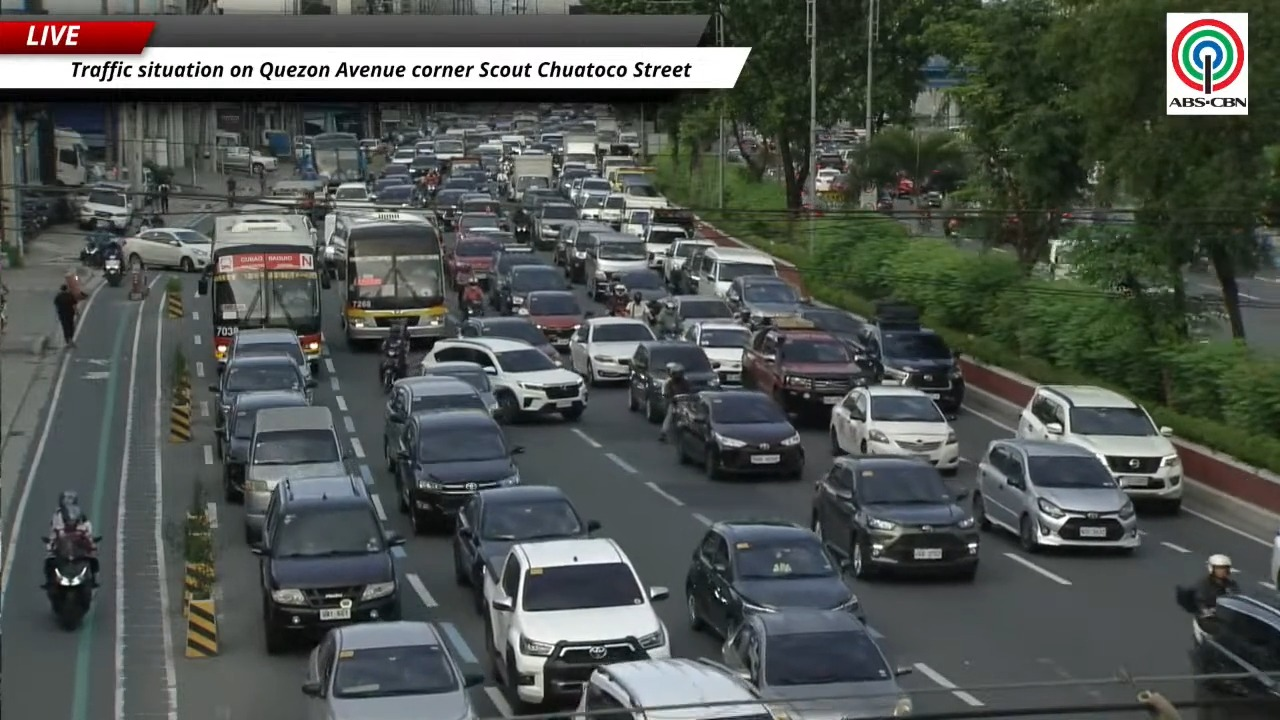bus: (198, 214, 329, 374), (329, 212, 452, 346), (310, 133, 367, 187)
car: (483, 537, 670, 713), (252, 475, 403, 654), (1016, 385, 1183, 512), (722, 608, 912, 719), (685, 520, 862, 637), (811, 456, 978, 579), (973, 438, 1140, 551), (452, 485, 600, 611), (302, 620, 484, 719), (391, 411, 522, 533), (243, 406, 349, 543), (423, 337, 587, 421), (743, 318, 874, 423), (575, 658, 780, 719), (854, 301, 964, 413), (671, 389, 804, 479), (829, 385, 959, 474), (1189, 593, 1279, 719), (383, 375, 495, 469), (217, 390, 309, 502), (208, 355, 315, 431), (628, 340, 719, 422), (569, 317, 655, 384), (458, 315, 561, 363), (219, 328, 319, 376), (682, 321, 750, 385), (418, 362, 498, 416), (583, 232, 646, 299), (121, 227, 211, 271), (518, 290, 584, 350), (487, 244, 547, 309), (799, 305, 866, 363), (725, 275, 801, 325), (497, 264, 570, 314), (553, 218, 610, 278), (445, 233, 501, 288), (565, 222, 614, 282), (613, 269, 669, 321), (78, 182, 133, 231), (660, 239, 714, 287), (670, 244, 716, 294), (531, 202, 577, 249), (667, 295, 735, 326), (551, 219, 582, 266), (434, 188, 468, 229), (455, 211, 503, 239), (461, 193, 505, 223), (571, 176, 610, 205), (376, 183, 421, 208), (600, 192, 626, 229), (370, 176, 411, 199), (383, 148, 416, 175), (408, 154, 442, 179), (333, 182, 372, 203), (578, 192, 606, 221), (379, 162, 411, 183), (1268, 529, 1279, 587), (815, 167, 840, 192)
motorcycle: (46, 535, 94, 630), (80, 229, 115, 266), (380, 350, 406, 393), (103, 255, 123, 287), (461, 300, 484, 319)
truck: (508, 154, 552, 201), (54, 127, 88, 186), (220, 146, 277, 175), (563, 133, 598, 169), (596, 117, 619, 141)
